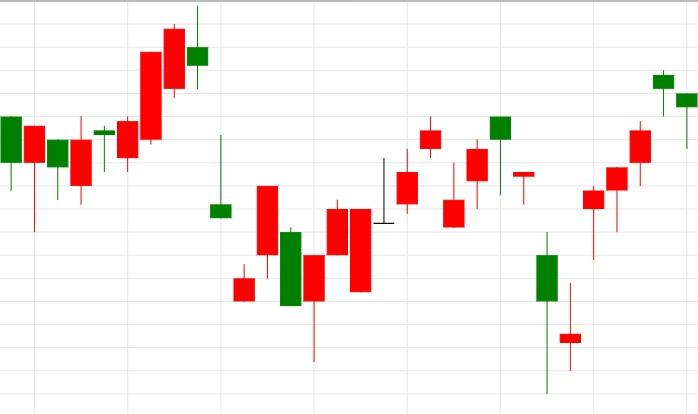hanging_man_fall: (442, 115, 512, 228)
